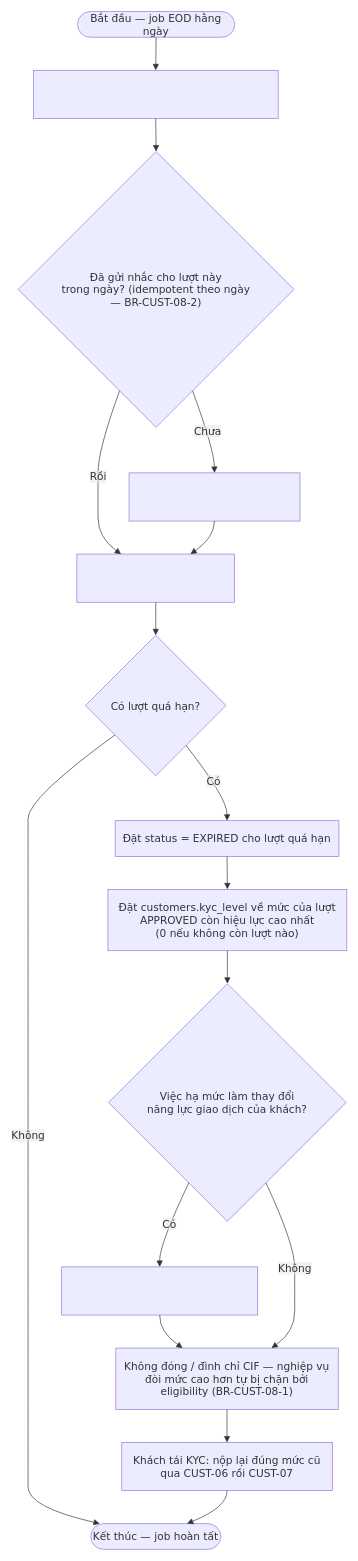
The diagram is 358 pixels wide and 1561 high, and some of its shapes have lost their labels. Here are the shapes that lost their labels. From the top down, the box of each, then its label:
(33, 70, 278, 118): Job quét kyc_verifications APPROVED có expires_at trong cửa sổ nhắc (T-30, T-7)
(128, 472, 300, 521): Gửi thông báo nhắc tái KYC (qua notification)
(76, 553, 235, 602): Quét các lượt APPROVED đã quá expires_at
(61, 1266, 258, 1315): Phát customer.status.changed.v1 (qua outbox)
